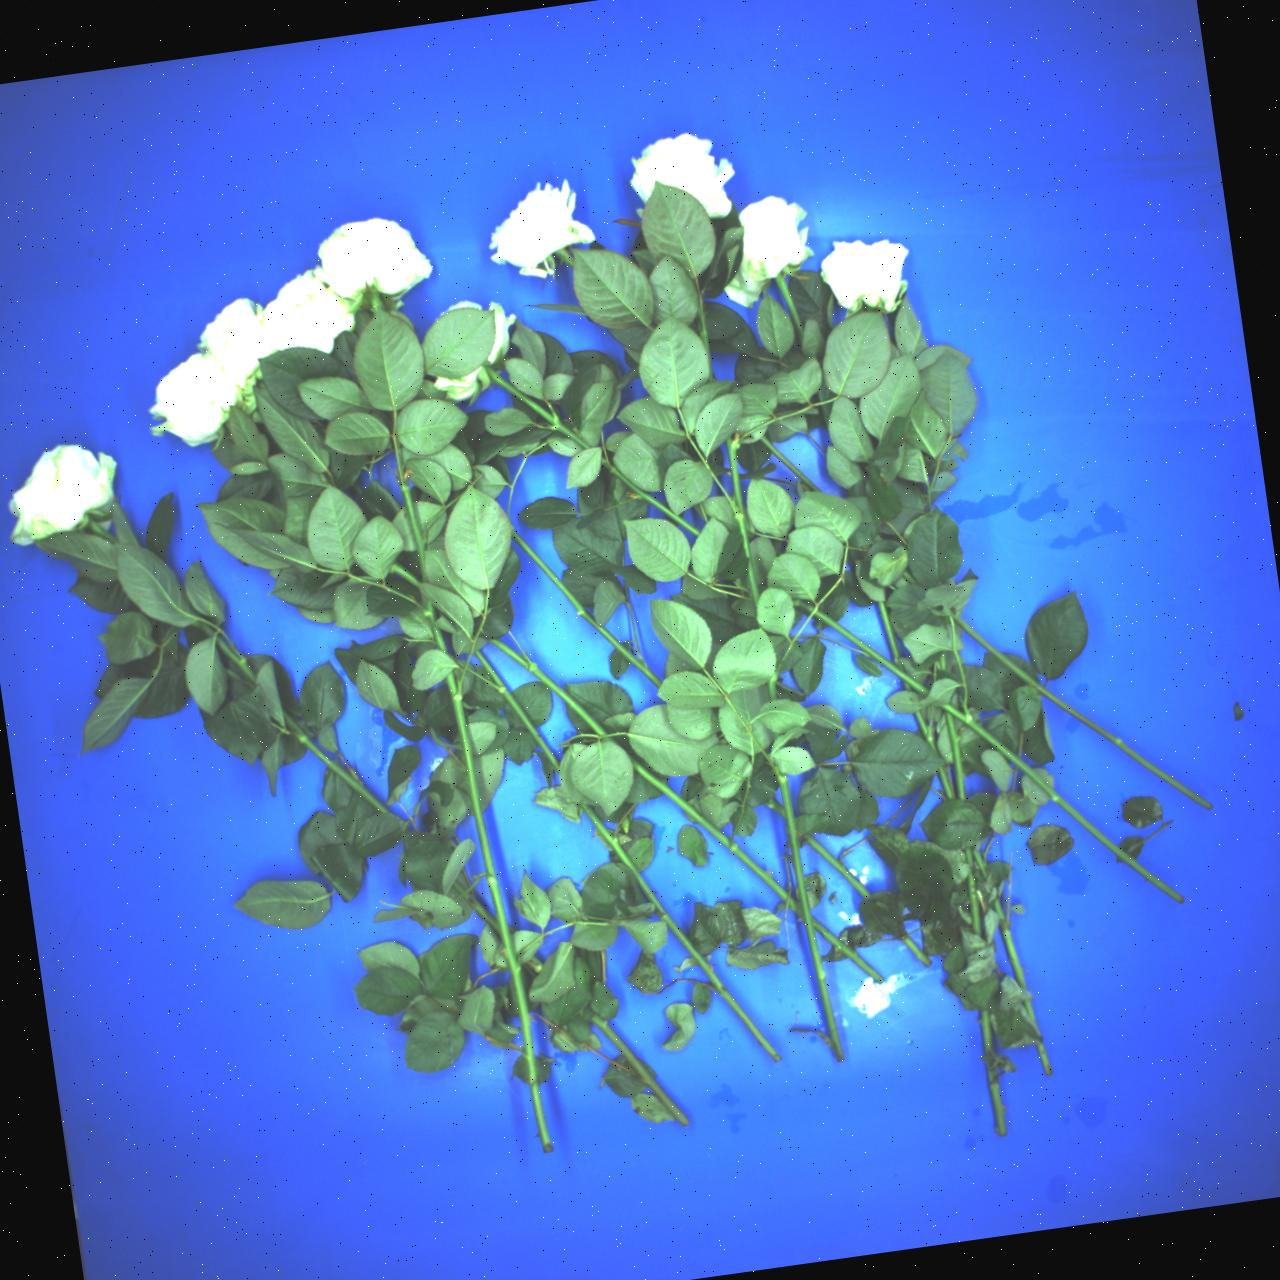Stem: (440, 670, 559, 1153), (941, 610, 1214, 817), (577, 795, 782, 1067), (937, 693, 1185, 910), (620, 755, 810, 917), (501, 525, 663, 693), (774, 770, 845, 1062), (489, 629, 619, 750), (791, 593, 930, 700), (275, 712, 392, 818), (588, 1010, 690, 1129), (471, 648, 564, 774), (479, 365, 593, 454), (598, 457, 700, 539), (387, 436, 435, 581), (722, 436, 760, 610), (808, 917, 884, 985), (802, 831, 872, 899), (196, 619, 263, 683), (758, 435, 822, 496), (980, 1008, 1006, 1136), (993, 898, 1027, 992), (451, 879, 504, 934), (944, 710, 965, 802), (878, 599, 904, 672), (776, 277, 806, 338), (907, 710, 947, 753), (964, 846, 980, 938), (695, 305, 713, 383), (899, 932, 932, 967), (388, 561, 421, 591), (86, 518, 117, 545), (935, 764, 954, 799), (1034, 1041, 1053, 1075), (763, 796, 788, 822), (972, 849, 992, 880), (417, 598, 441, 624), (556, 248, 576, 268), (433, 625, 445, 655), (1023, 999, 1037, 1026), (526, 954, 545, 973), (901, 570, 919, 588), (369, 293, 382, 315), (767, 674, 777, 701), (939, 652, 946, 670), (904, 682, 911, 690)
flower: (301, 195, 438, 331), (0, 423, 135, 560), (472, 168, 606, 298), (236, 260, 365, 388), (720, 189, 822, 316), (139, 341, 248, 456), (625, 122, 747, 222), (421, 290, 519, 413), (190, 288, 297, 395), (819, 237, 908, 313)
